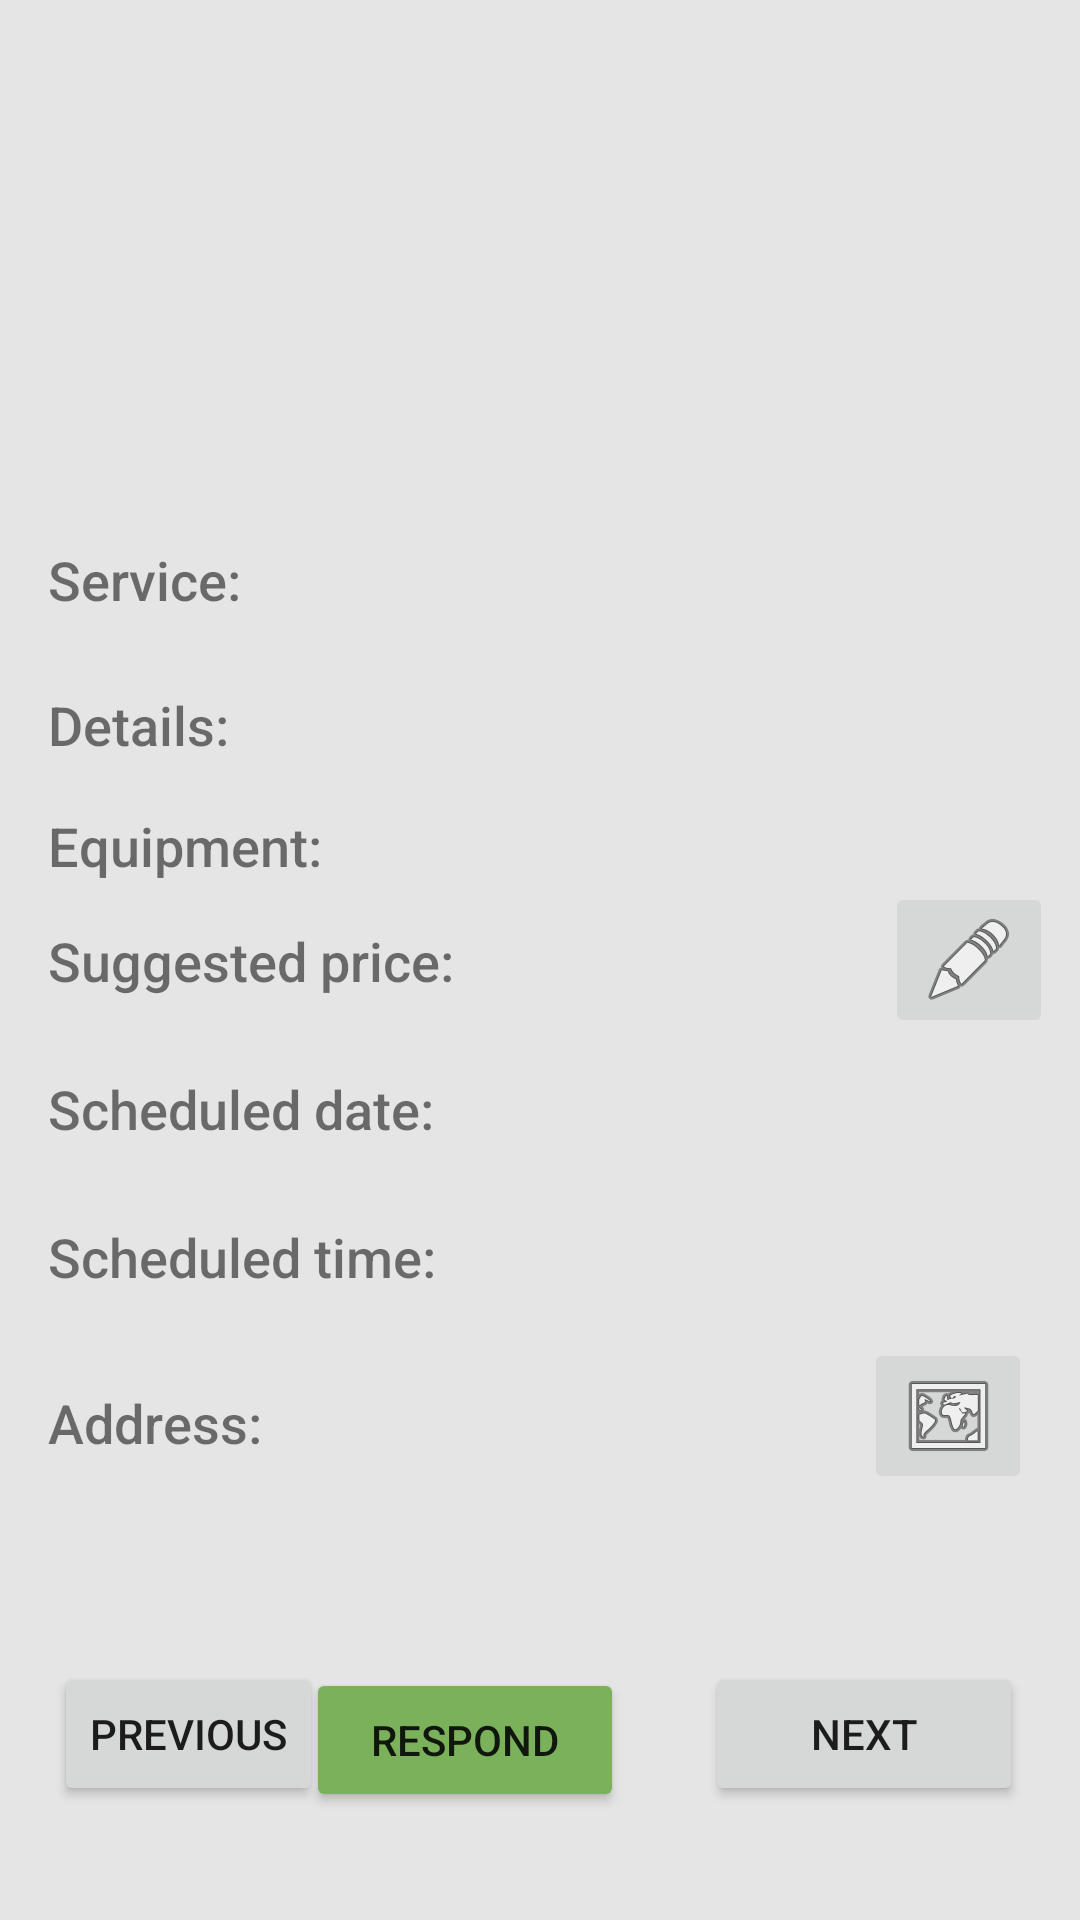

Screen size 1080w x 1920h. Icon name, then its box in pixels as {"left": x1, "top": y1, "right": x2, "bottom": y2}:
Change: {"left": 897, "top": 900, "right": 1041, "bottom": 1020}
Map: {"left": 876, "top": 1356, "right": 1020, "bottom": 1476}
